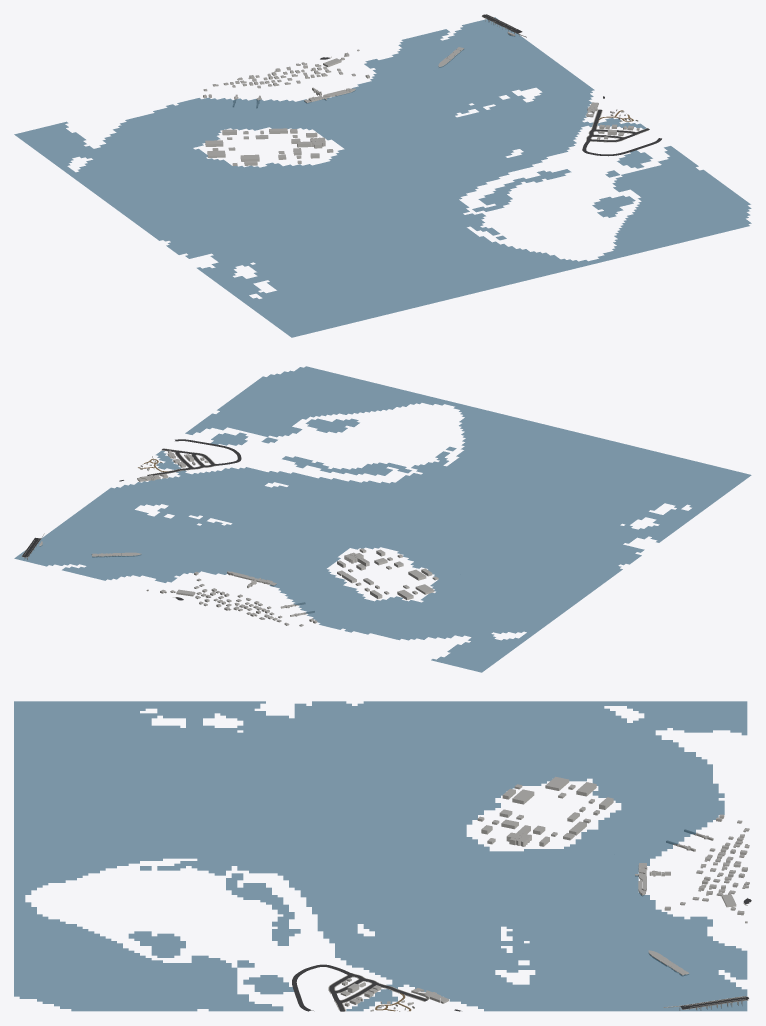
The model's file is chunk_4_3.glb.
3 views of the same model, one above another, from view 1: azimuth 30°, elevation 25°; view 2: azimuth 150°, elevation 25°; view 3: azimuth 270°, elevation 25° (orthographic). The views are drawn at different scales.
Visible parts, largest first — view 1: Water_4_3, Filler_4_3, Buildings_4_3, Roads_4_3; view 2: Water_4_3, Filler_4_3, Buildings_4_3, Roads_4_3; view 3: Water_4_3, Filler_4_3, Buildings_4_3, Roads_4_3, RoadSides_4_3.
Part boxes in pixels (x1,y1,x2,y2): Water_4_3: [14, 17, 751, 337]; Filler_4_3: [203, 49, 633, 166]; Buildings_4_3: [233, 31, 639, 148]; Roads_4_3: [320, 14, 661, 156]; Water_4_3: [14, 366, 751, 672]; Filler_4_3: [146, 452, 438, 626]; Buildings_4_3: [39, 450, 369, 616]; Roads_4_3: [22, 439, 241, 600]; Water_4_3: [14, 701, 747, 1011]; Filler_4_3: [340, 776, 749, 1004]; Buildings_4_3: [342, 825, 713, 1011]; Roads_4_3: [292, 898, 751, 1011]; RoadSides_4_3: [328, 903, 748, 1011].
Bounding box in the file's own units: 2061 × 33.37 × 2061.
